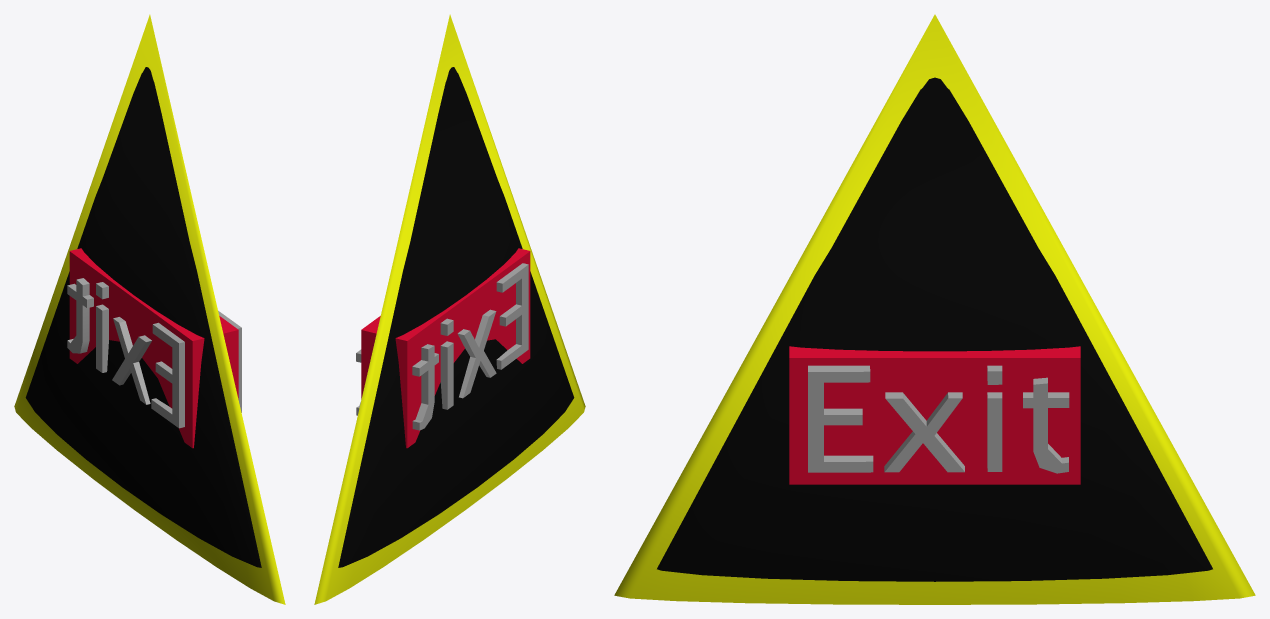
The model's file is Exit Hazard.fbx.
The picture shows the model from 3 angles, left to right: view 1: azimuth 30°, elevation 25°; view 2: azimuth 150°, elevation 25°; view 3: azimuth 270°, elevation 25°; orthographic projection. The views are drawn at different scales.
Parts seen in each view (by area): view 1: pCube2; view 2: pCube2; view 3: pCube2.
Boxes of the visible parts, <box> form: pCube2: <box>14,14,285,604</box>; pCube2: <box>314,14,585,604</box>; pCube2: <box>614,14,1255,604</box>.
Bounding box in the file's own units: 0.5124 × 3.63 × 3.63.
